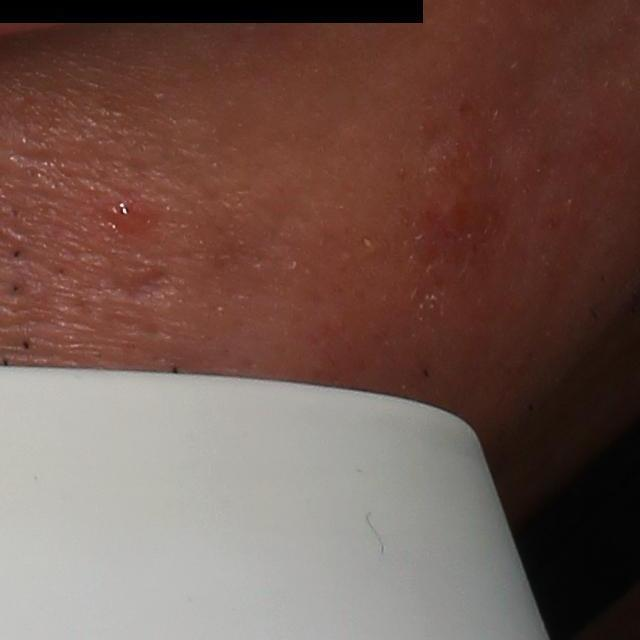atrophic_scar: (95, 260, 192, 313)
papule: (420, 184, 487, 250), (100, 191, 148, 235)
